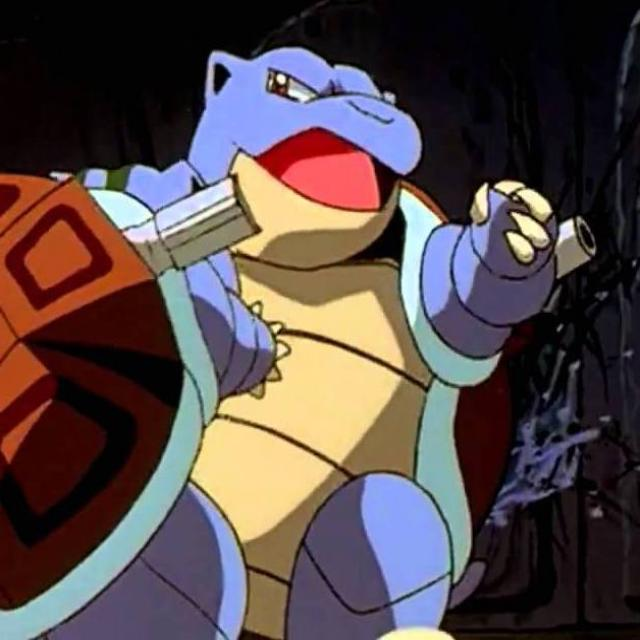Blastoise: (185, 54, 576, 640), (9, 160, 270, 622)
